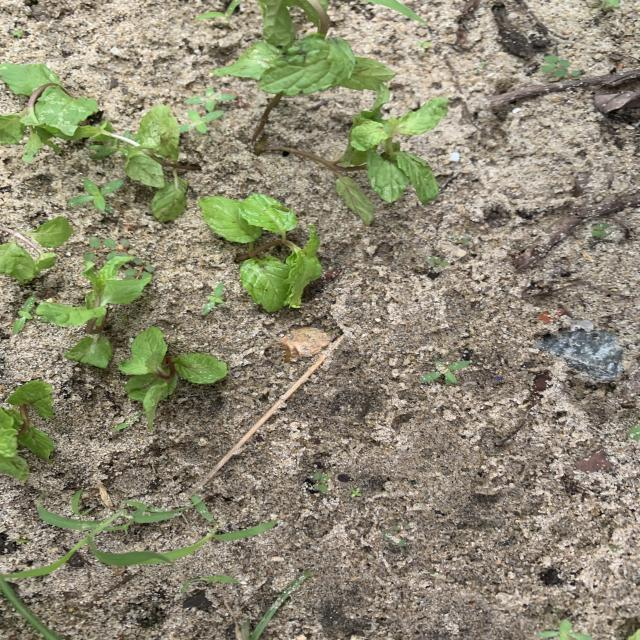crop: (212, 0, 450, 224), (78, 105, 200, 222), (201, 195, 322, 311), (37, 257, 151, 366), (119, 328, 227, 428), (0, 64, 98, 162), (1, 382, 54, 480), (1, 217, 71, 282)
weed: (1, 505, 172, 580), (160, 521, 277, 562), (251, 571, 310, 639), (106, 500, 188, 533), (69, 178, 123, 211), (365, 0, 426, 23), (422, 359, 470, 384), (185, 88, 235, 111), (196, 0, 240, 25), (88, 238, 134, 259), (184, 109, 223, 132), (542, 55, 581, 78), (14, 296, 35, 332), (383, 522, 411, 547), (125, 258, 154, 278), (204, 284, 224, 312), (112, 414, 140, 431), (308, 473, 329, 492), (429, 257, 448, 272), (590, 1, 619, 10), (593, 223, 610, 237), (450, 231, 468, 243), (416, 41, 431, 52), (350, 488, 360, 497), (14, 538, 30, 543), (38, 491, 48, 499), (119, 313, 127, 321)
